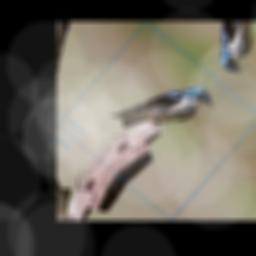Swallow: (107, 53, 220, 164)
